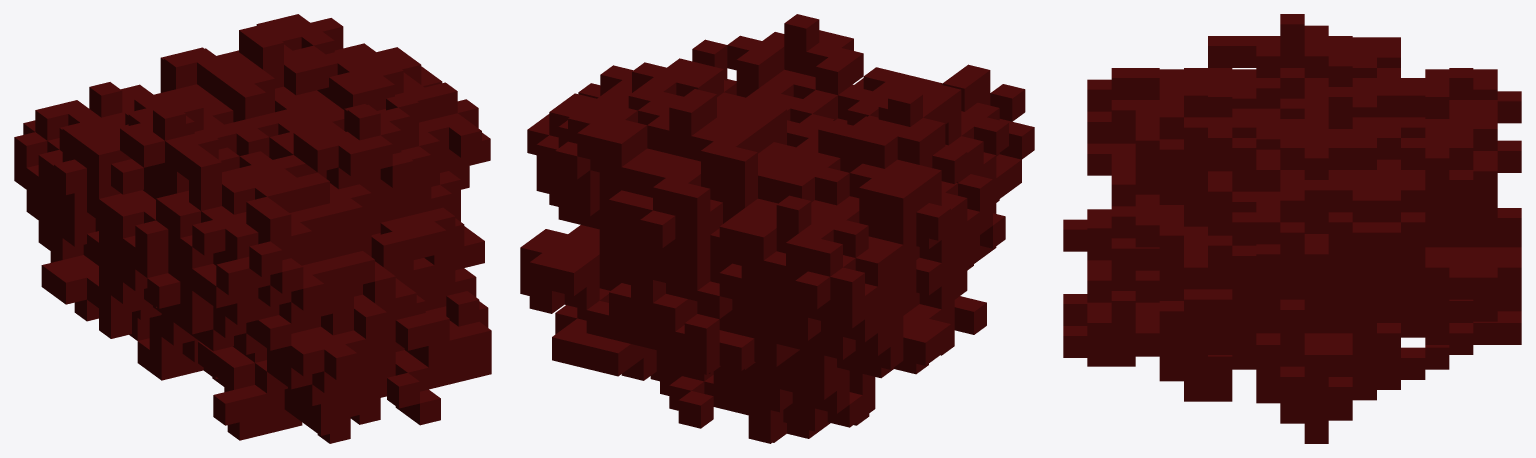
Rendered from bad-8.obj.
The picture shows the model from 3 angles, left to right: view 1: azimuth 30°, elevation 25°; view 2: azimuth 150°, elevation 25°; view 3: azimuth 270°, elevation 25°; orthographic projection. The views are drawn at different scales.
Bounding box in the file's own units: 1.8 × 1.5 × 1.9.
Materials: 1 (1 with a texture image).
